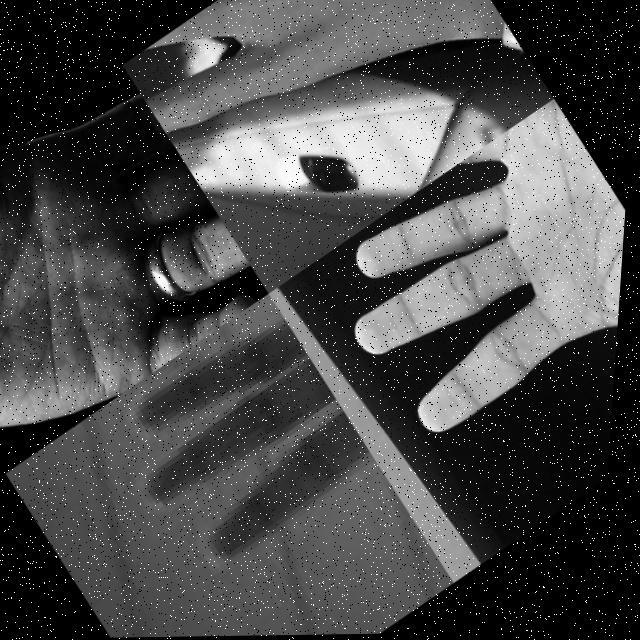no-gloves: (296, 98, 634, 560), (78, 291, 476, 638), (0, 62, 284, 472), (113, 0, 515, 231)
